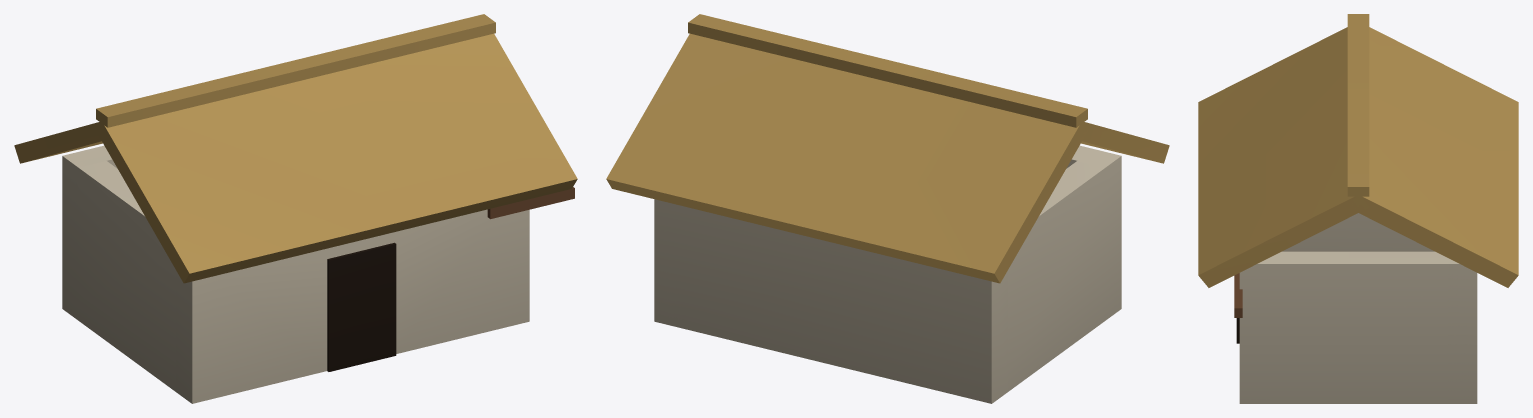
Rendered from wari_room_lod1.glb.
3 views of the same model, side by side, from view 1: azimuth 30°, elevation 25°; view 2: azimuth 150°, elevation 25°; view 3: azimuth 270°, elevation 25° (orthographic). The views are drawn at different scales.
Parts seen in each view (by area): view 1: GEO-Arch_wari_room_LOD1; view 2: GEO-Arch_wari_room_LOD1; view 3: GEO-Arch_wari_room_LOD1.
Part boxes in pixels (x1=…): GEO-Arch_wari_room_LOD1: x1=14, y1=14, x2=577, y2=403; GEO-Arch_wari_room_LOD1: x1=606, y1=14, x2=1169, y2=403; GEO-Arch_wari_room_LOD1: x1=1198, y1=14, x2=1518, y2=403.
Size of the model in its own units: 7.2 by 4.24 by 5.4.
